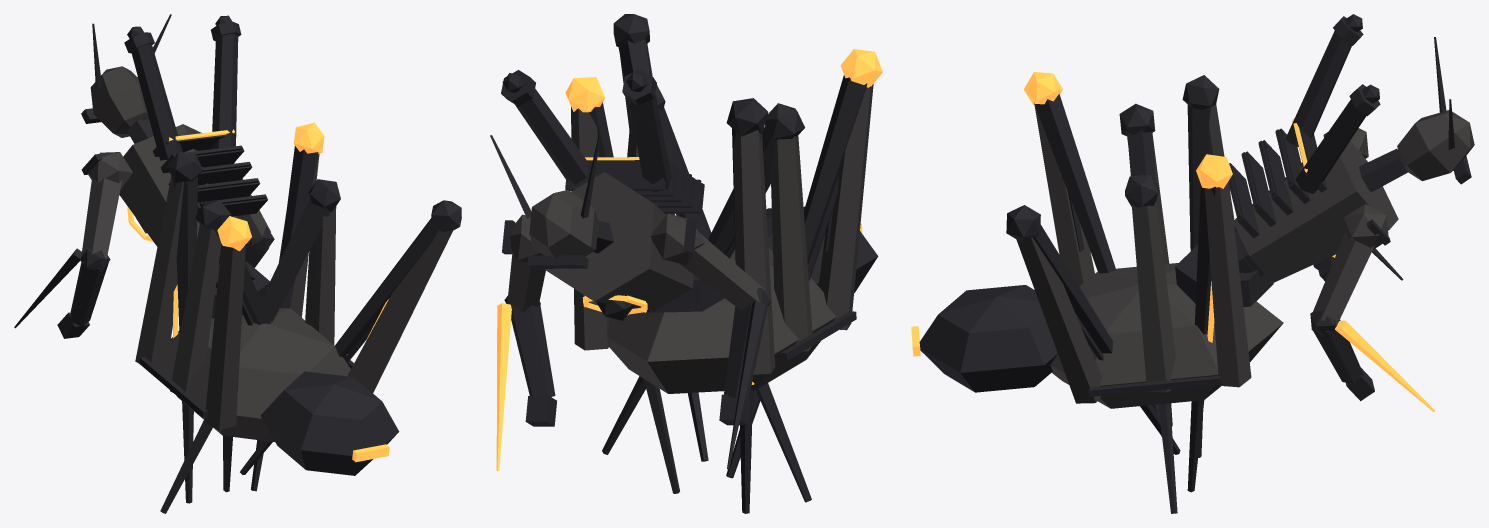
Rendered from Wreck_Overclock.fbx.
3 views of the same model, side by side, from view 1: azimuth 30°, elevation 25°; view 2: azimuth 150°, elevation 25°; view 3: azimuth 270°, elevation 25° (orthographic). The views are drawn at different scales.
Parts seen in each view (by area): view 1: Wreck_Overclock; view 2: Wreck_Overclock; view 3: Wreck_Overclock.
Part boxes in pixels (x1,y1,x2,y2): Wreck_Overclock: [14, 14, 461, 513]; Wreck_Overclock: [490, 14, 882, 513]; Wreck_Overclock: [911, 14, 1474, 513].
Bounding box in the file's own units: 0.5637 × 0.8283 × 0.9341.
